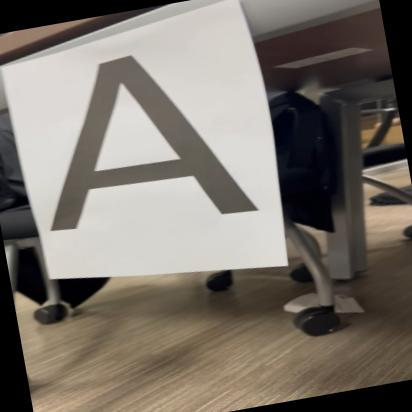seat: (17, 30, 272, 251)
